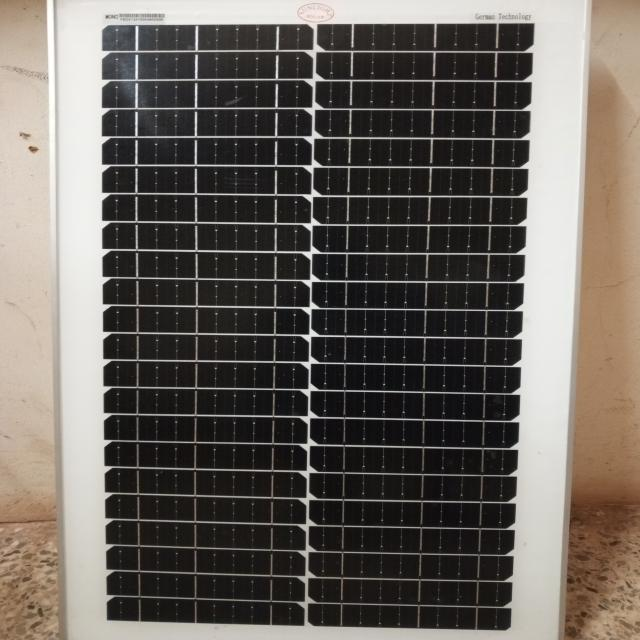Clean: (88, 11, 536, 640)
